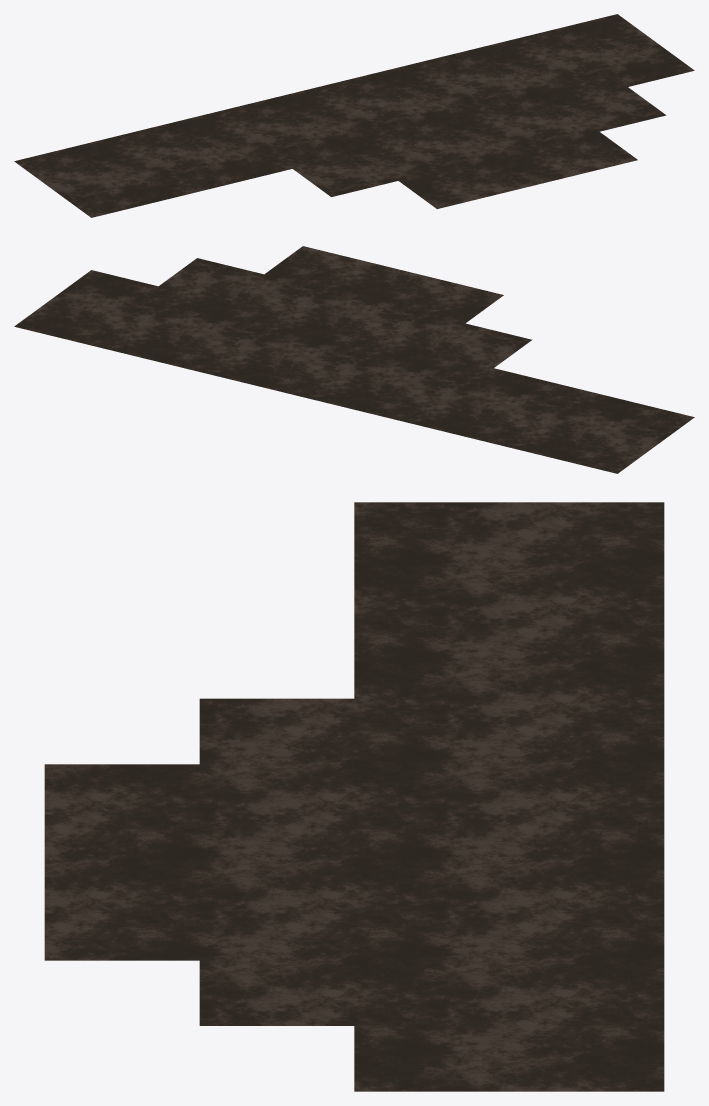
The model's file is floor_-2_-5.glb.
3 renders of one model, top to bottom at view 1: azimuth 30°, elevation 25°; view 2: azimuth 150°, elevation 25°; view 3: azimuth 270°, elevation 25°, orthographic. The views are drawn at different scales.
Visible parts, largest first — view 1: floor_-2_-5; view 2: floor_-2_-5; view 3: floor_-2_-5.
Boxes of the visible parts, box(x1,y1,x2,y2) form: floor_-2_-5: box(14, 14, 694, 217); floor_-2_-5: box(14, 246, 694, 473); floor_-2_-5: box(44, 502, 664, 1091).
Size of the model in its own units: 36 by 0 by 16.
Materials: 1 (1 with a texture image).
